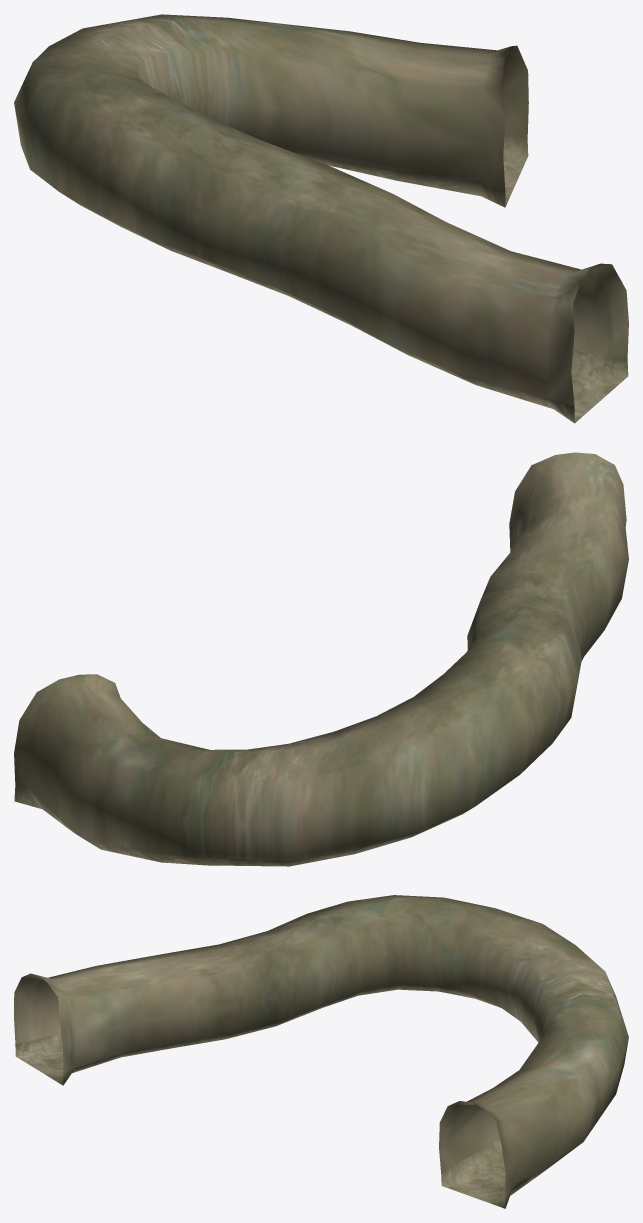
The model's file is EKH_CAVERNS_PS_CA_CAVE_01.fbx.
3 renders of one model, top to bottom at view 1: azimuth 30°, elevation 25°; view 2: azimuth 150°, elevation 25°; view 3: azimuth 270°, elevation 25°, orthographic. The views are drawn at different scales.
Visible parts, largest first — view 1: EKH_CAVERNS_PS_CA_CAVE_01; view 2: EKH_CAVERNS_PS_CA_CAVE_01; view 3: EKH_CAVERNS_PS_CA_CAVE_01.
Boxes of the visible parts, <box> form: EKH_CAVERNS_PS_CA_CAVE_01: <box>14,14,628,423</box>; EKH_CAVERNS_PS_CA_CAVE_01: <box>14,452,628,866</box>; EKH_CAVERNS_PS_CA_CAVE_01: <box>14,895,628,1208</box>.
Bounding box in the file's own units: 151810 × 63298 × 227126.
Materials: 1 (1 with a texture image).
